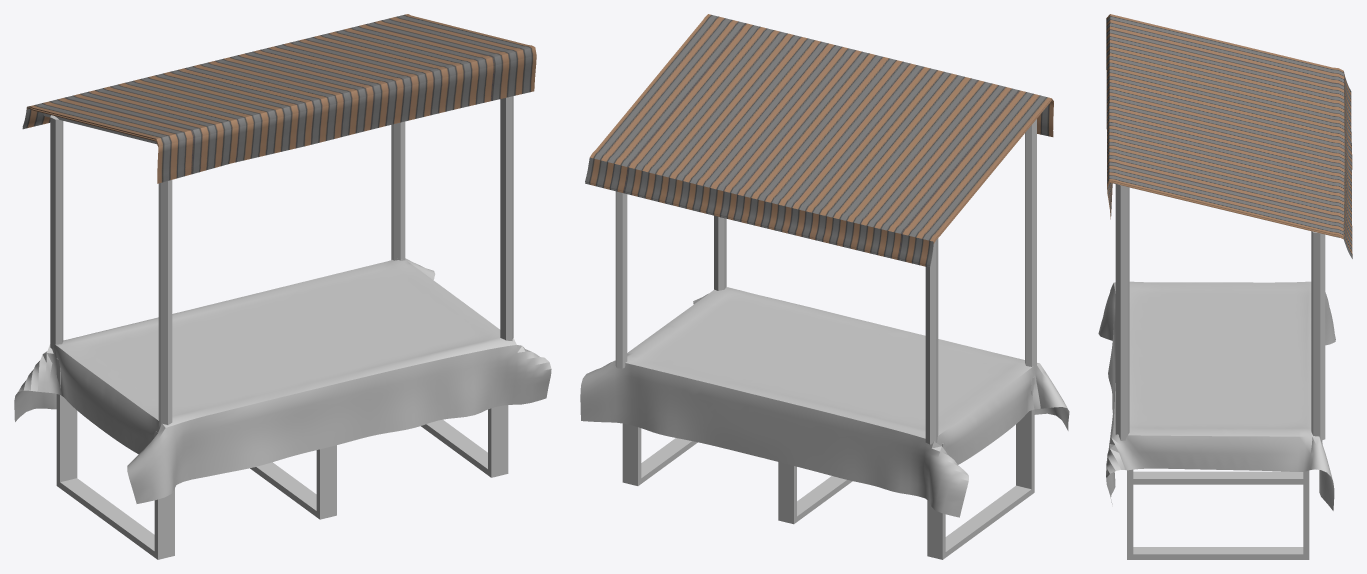
The model's file is espositore capannetta 2.fbx.
The picture shows the model from 3 angles, left to right: view 1: azimuth 30°, elevation 25°; view 2: azimuth 150°, elevation 25°; view 3: azimuth 270°, elevation 25°; orthographic projection. The views are drawn at different scales.
Visible parts, largest first — view 1: espositore_2_2, espositore_2, espositore_2_1, espositore_2_3; view 2: espositore_2, espositore_2_2, espositore_2_1, espositore_2_3; view 3: espositore_2, espositore_2_2, espositore_2_1, espositore_2_3.
Boxes of the visible parts, x1,y1,x2,y2 form: espositore_2_2: (14,258,551,503); espositore_2: (22,14,536,181); espositore_2_1: (43,96,513,559); espositore_2_3: (22,55,536,183); espositore_2: (585,14,1053,265); espositore_2_2: (580,287,1069,517); espositore_2_1: (615,119,1036,559); espositore_2_3: (585,100,1053,267); espositore_2: (1106,14,1352,257); espositore_2_2: (1098,281,1335,510); espositore_2_1: (1111,183,1339,559); espositore_2_3: (1106,68,1352,258).
Bounding box in the file's own units: 303 × 296 × 176.
